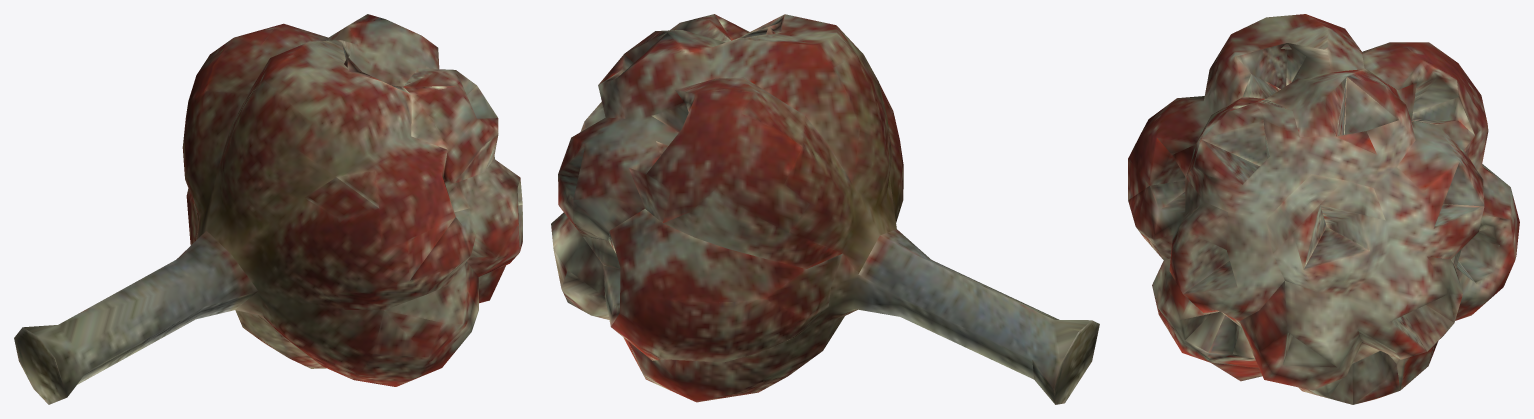
File: 11_ING_mushroom_puff.glb
3 renders of one model, left to right at view 1: azimuth 30°, elevation 25°; view 2: azimuth 150°, elevation 25°; view 3: azimuth 270°, elevation 25°, orthographic. The views are drawn at different scales.
Visible parts, largest first — view 1: 11_ING_mushroom_puff; view 2: 11_ING_mushroom_puff; view 3: 11_ING_mushroom_puff.
Part boxes in pixels (<box>): 11_ING_mushroom_puff: <box>14,14,522,404</box>; 11_ING_mushroom_puff: <box>551,14,1099,404</box>; 11_ING_mushroom_puff: <box>1128,14,1519,404</box>.
Size of the model in its own units: 0.0791 by 0.0548 by 0.0563.
Materials: 1 (1 with a texture image).
